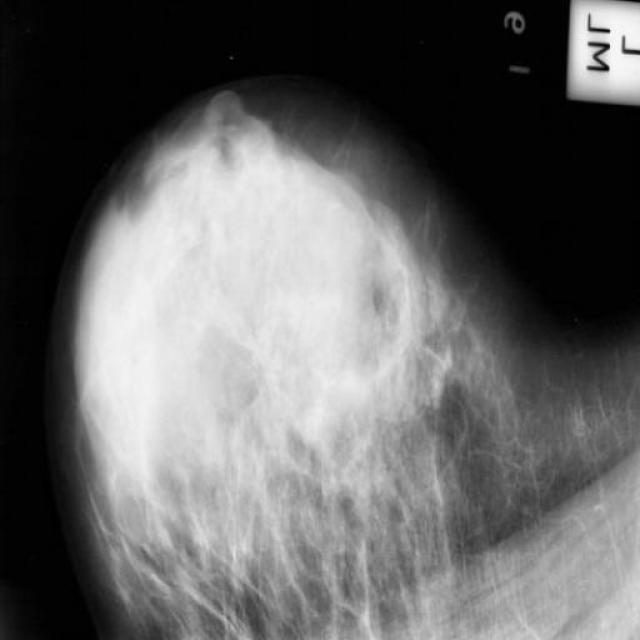cancer: (396, 316, 442, 374)
